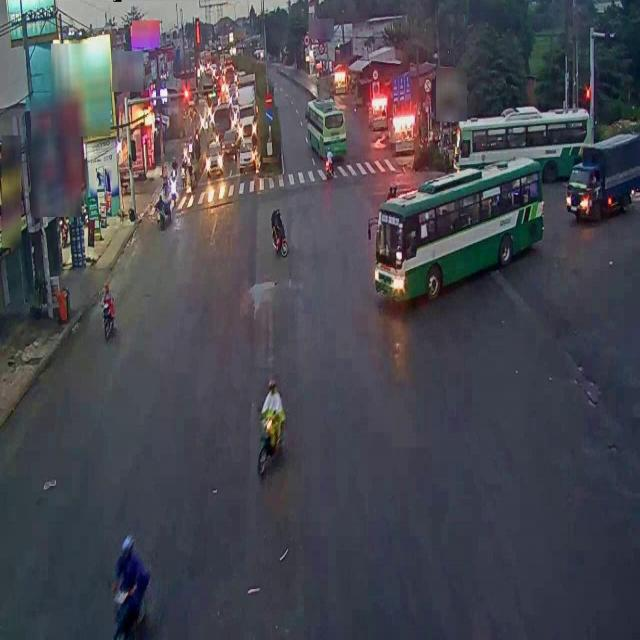bus: (374, 156, 544, 307)
motorcycle: (107, 535, 149, 640), (255, 378, 288, 482), (270, 203, 288, 259), (102, 280, 115, 340)
